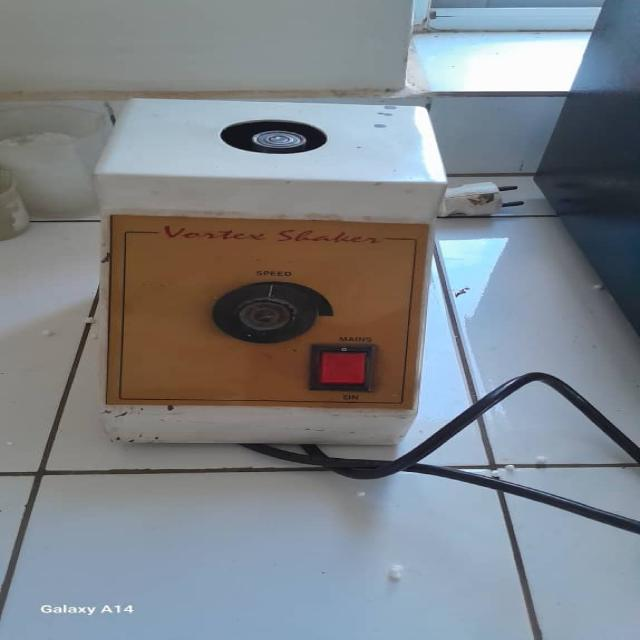Vortex: (95, 94, 451, 466)
